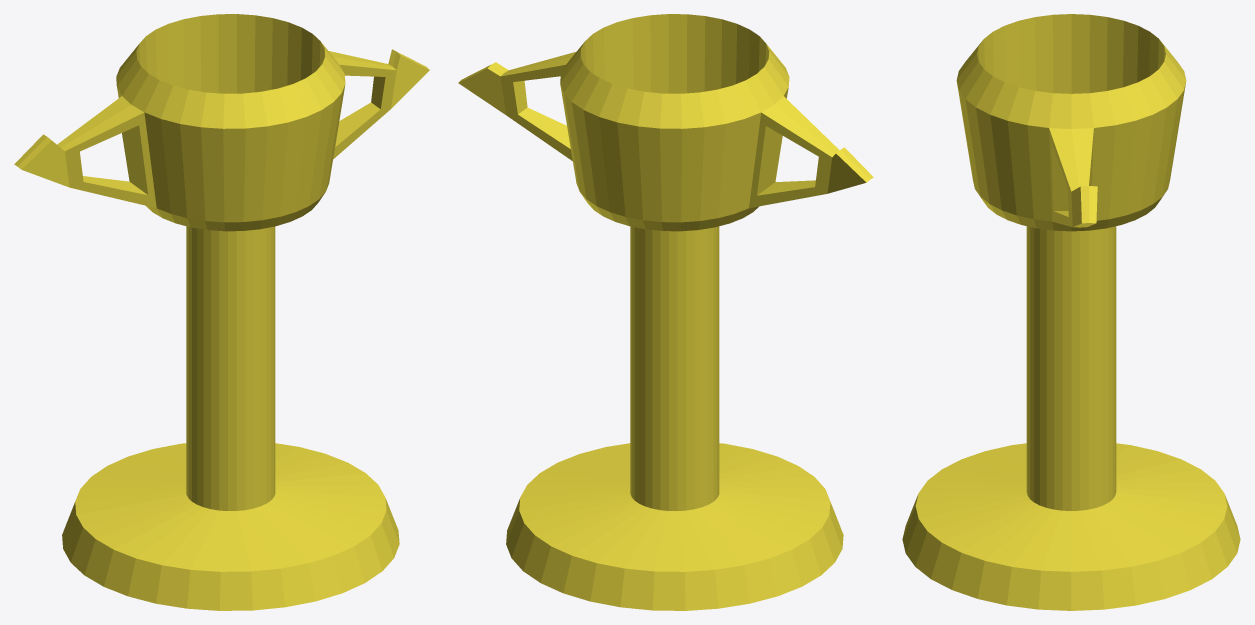
Rendered from Kubok.fbx.
3 renders of one model, left to right at view 1: azimuth 30°, elevation 25°; view 2: azimuth 150°, elevation 25°; view 3: azimuth 270°, elevation 25°, orthographic.
Parts seen in each view (by area): view 1: Circle; view 2: Circle; view 3: Circle.
Boxes of the visible parts, x1=… form: Circle: x1=14, y1=14, x2=429, y2=610; Circle: x1=458, y1=14, x2=873, y2=610; Circle: x1=902, y1=14, x2=1240, y2=610.
Size of the model in its own units: 279 by 317 by 200.
